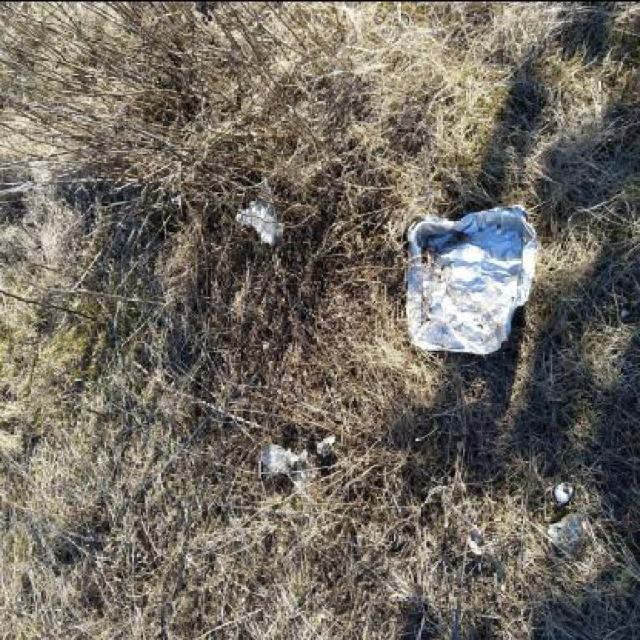metal: (406, 200, 536, 354)
